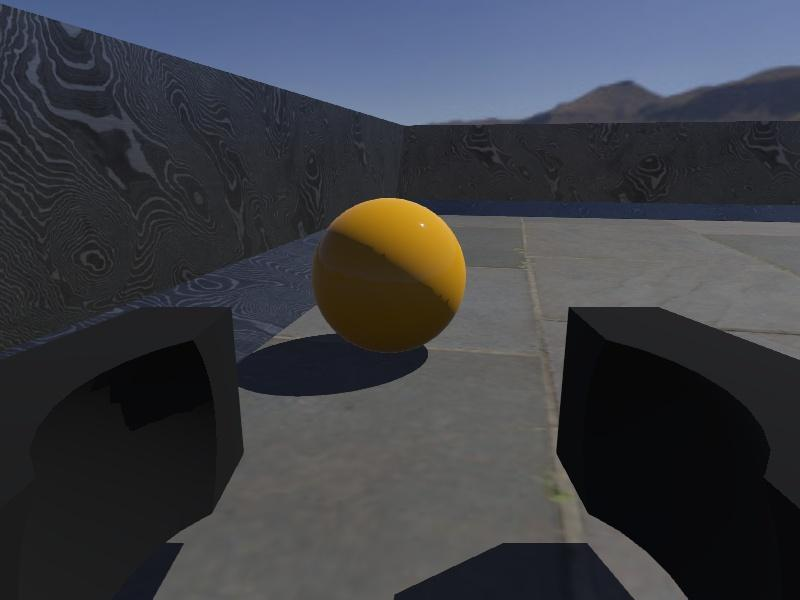orange ball: (310, 197, 468, 355)
